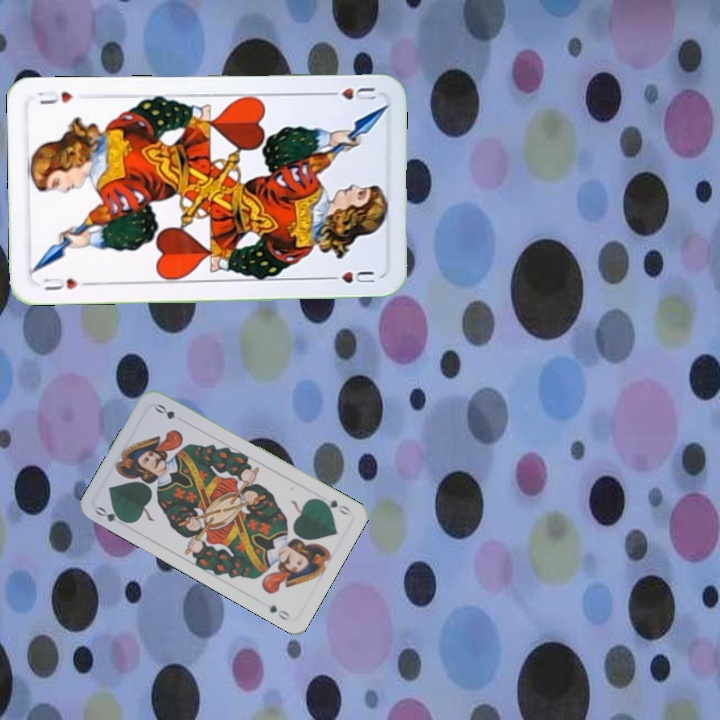GO: (91, 502, 131, 526), (315, 495, 353, 518)
HU: (321, 83, 378, 103), (40, 273, 93, 294)
